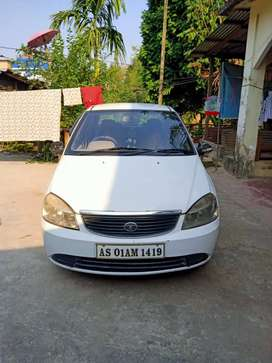AS01AM1419: (97, 242, 164, 258)
